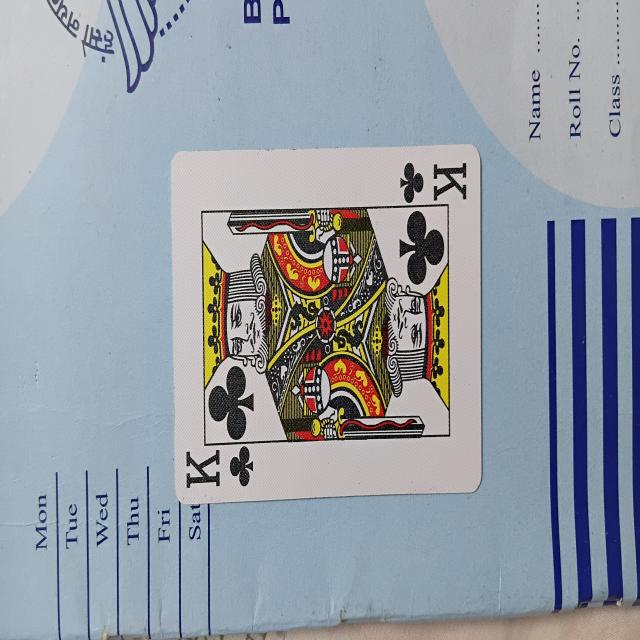KC: (173, 145, 482, 502)
